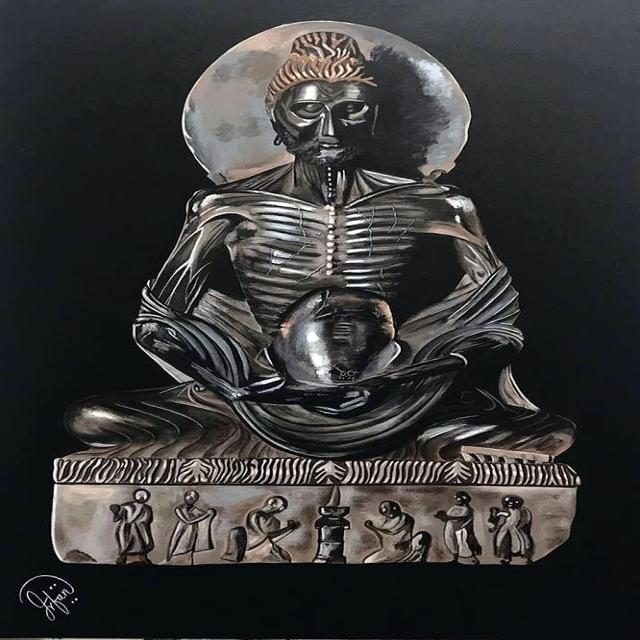buddha-sitting: (51, 22, 590, 557)
